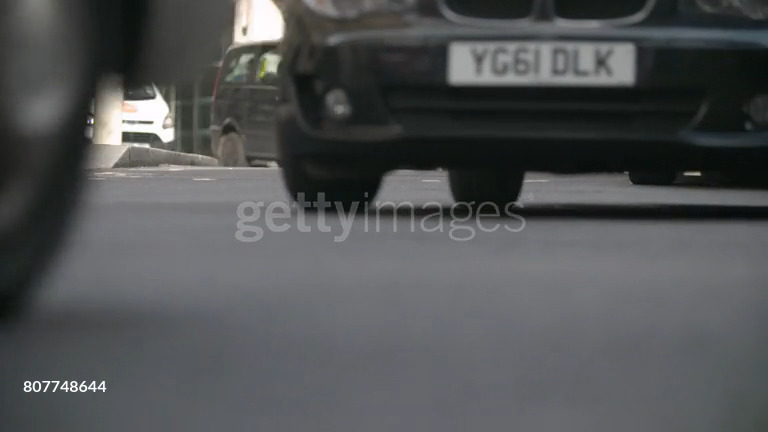car number: (447, 40, 636, 86)
